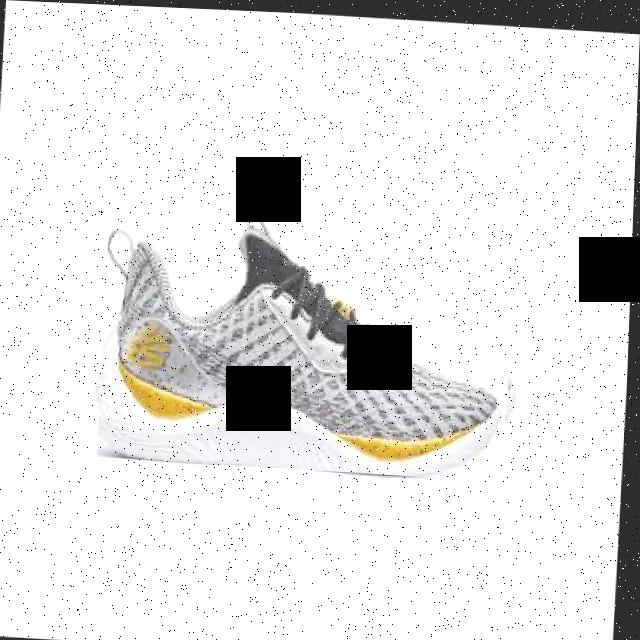shoe: (99, 179, 532, 477)
